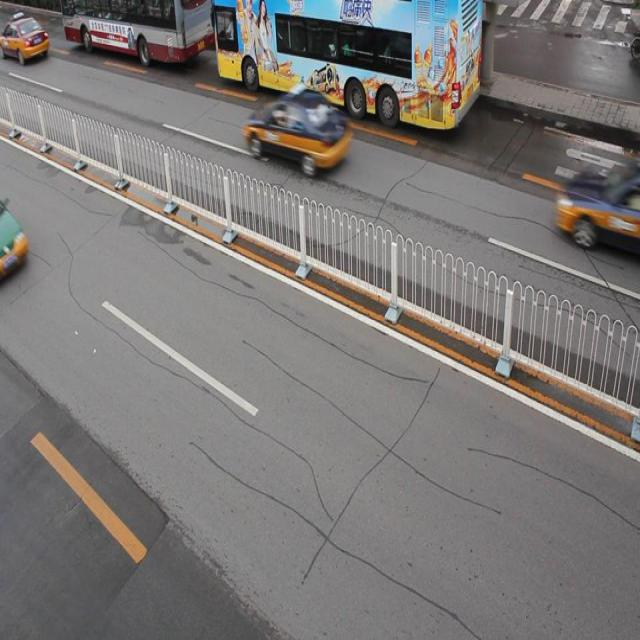car: (245, 90, 350, 174), (558, 166, 640, 254), (0, 14, 50, 66)
van: (214, 1, 480, 129), (61, 1, 217, 64)
